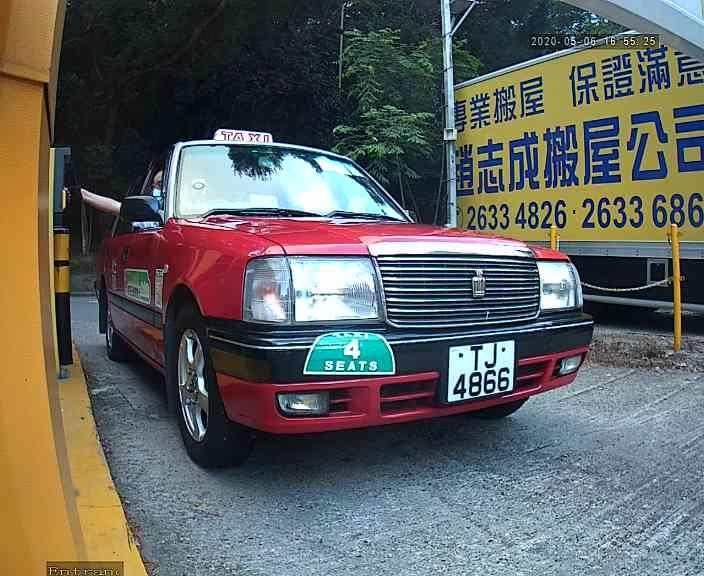Car: (73, 31, 604, 479)
License Plate: (441, 340, 522, 404)
